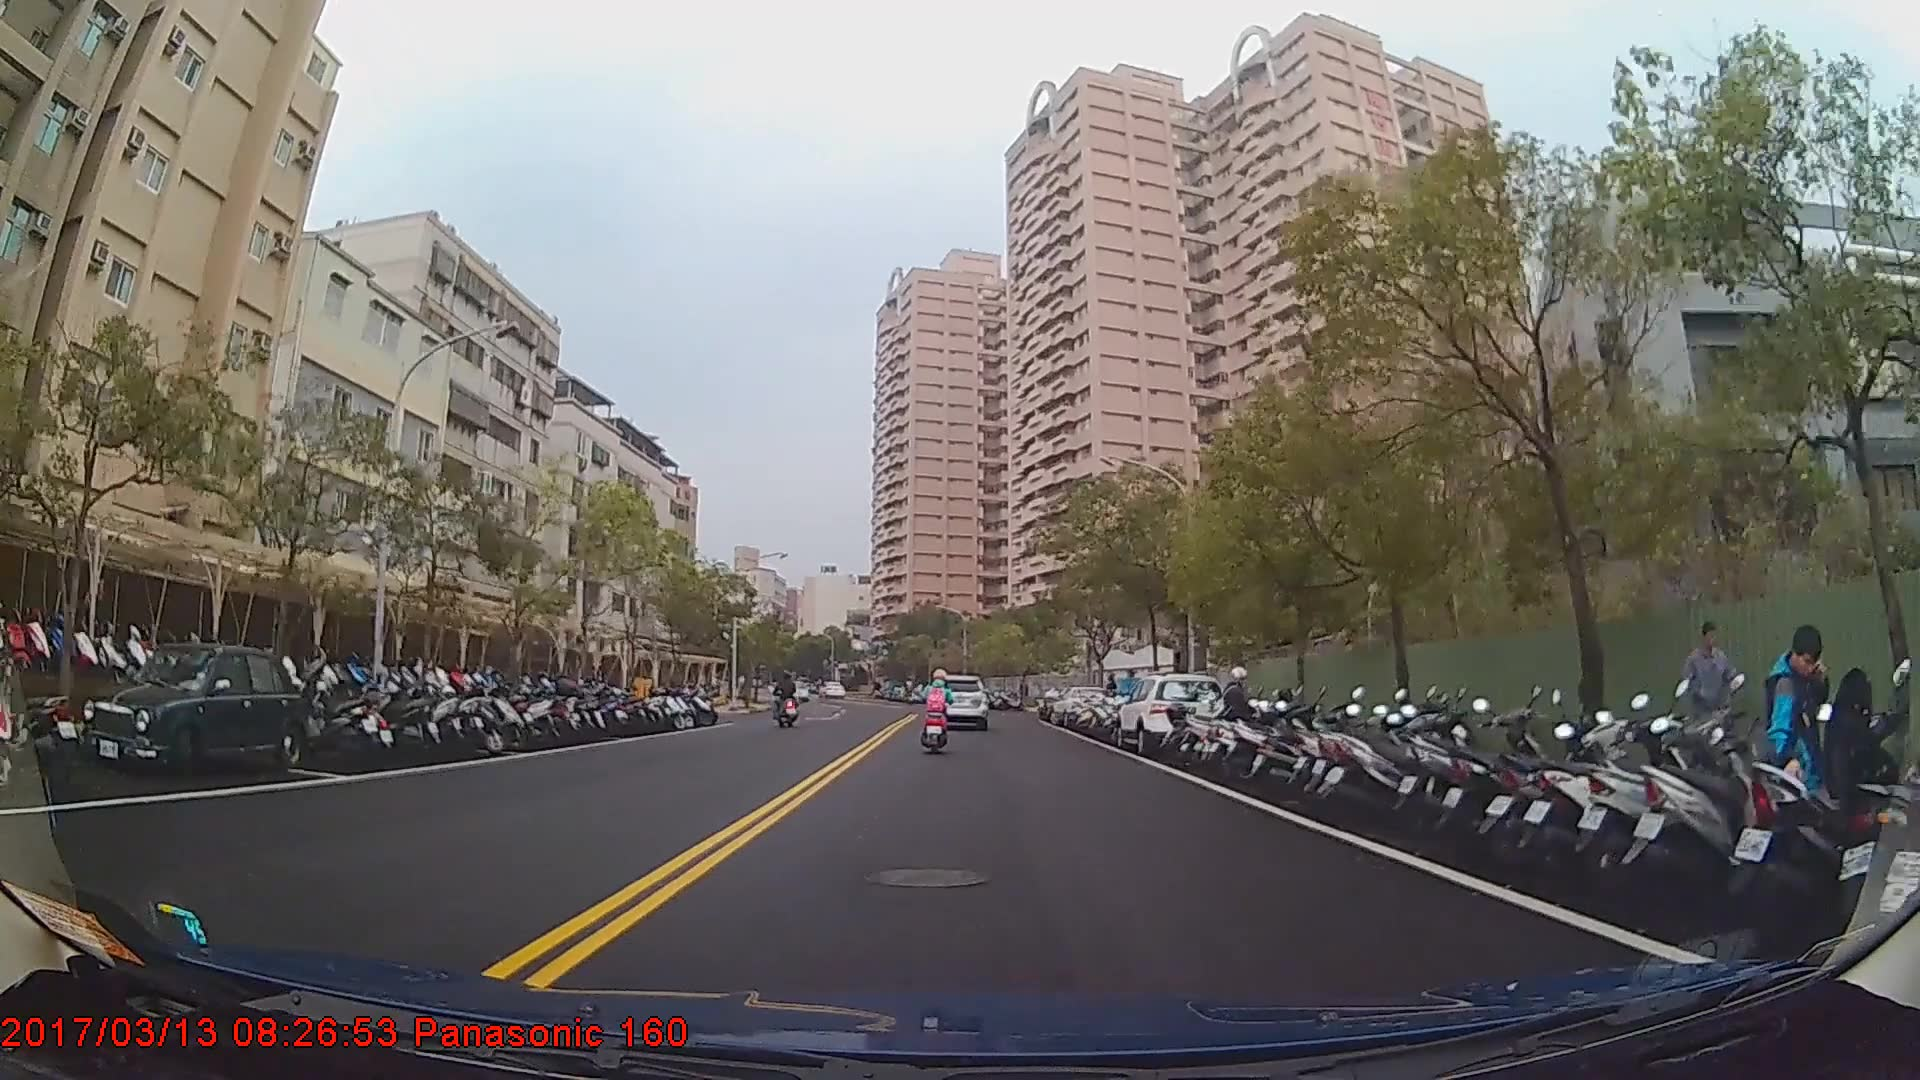pedestrian: (1758, 630, 1839, 898), (1679, 616, 1744, 782)
rider: (920, 669, 956, 753), (774, 670, 800, 732)
vehicle: (79, 641, 304, 783), (1114, 670, 1225, 757), (928, 676, 986, 730)
